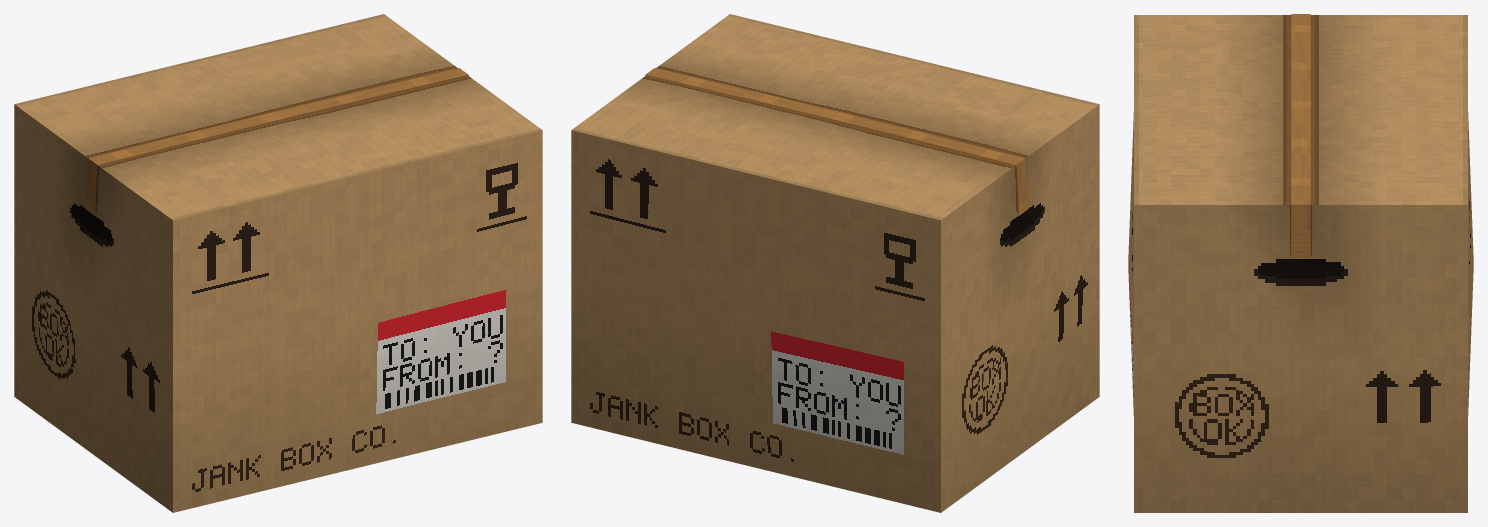
File: p_cardboard.glb
The picture shows the model from 3 angles, left to right: view 1: azimuth 30°, elevation 25°; view 2: azimuth 150°, elevation 25°; view 3: azimuth 270°, elevation 25°; orthographic projection. The views are drawn at different scales.
Visible parts, largest first — view 1: cardboard_lod0; view 2: cardboard_lod0; view 3: cardboard_lod0.
Part boxes in pixels (x1,y1,x2,y2): cardboard_lod0: [14, 14, 542, 512]; cardboard_lod0: [571, 14, 1099, 512]; cardboard_lod0: [1128, 14, 1473, 512].
Size of what is drawn, in the model's own units: 1.2 by 0.9 by 0.9.
2 materials, 2 textured.
